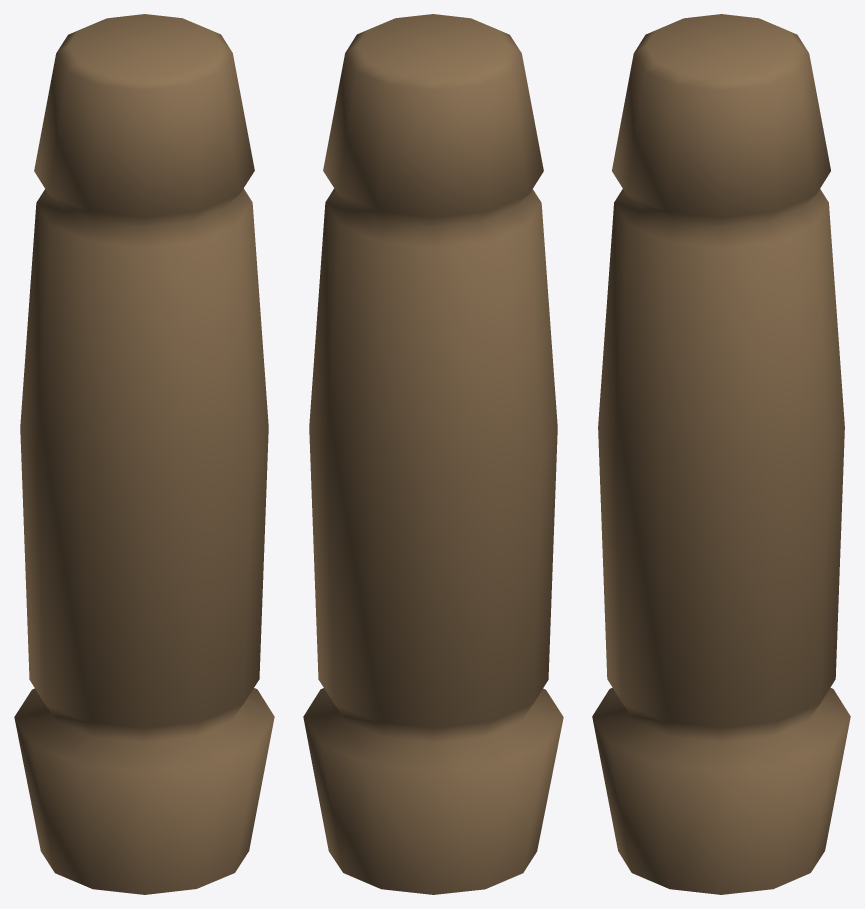
File: rpgpp_av_wall_connector_corner_02_3m.gltf
3 views of the same model, side by side, from view 1: azimuth 30°, elevation 25°; view 2: azimuth 150°, elevation 25°; view 3: azimuth 270°, elevation 25° (orthographic).
Visible parts, largest first — view 1: rpgpp_av_wall_connector_corner_02_3m; view 2: rpgpp_av_wall_connector_corner_02_3m; view 3: rpgpp_av_wall_connector_corner_02_3m.
Boxes of the visible parts, x1=… form: rpgpp_av_wall_connector_corner_02_3m: x1=14, y1=14, x2=274, y2=894; rpgpp_av_wall_connector_corner_02_3m: x1=303, y1=14, x2=563, y2=894; rpgpp_av_wall_connector_corner_02_3m: x1=592, y1=14, x2=850, y2=894.
Size of the model in its own units: 0.0088 by 0.03 by 0.00873.
1 material, 1 textured.
